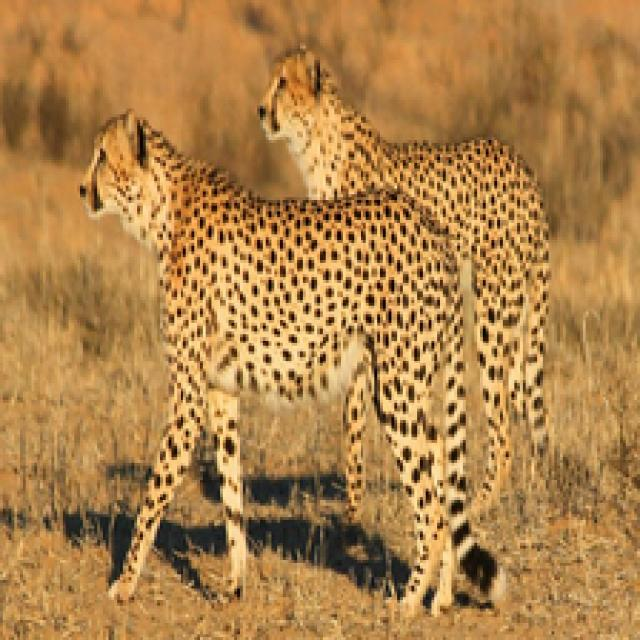cheetah: (70, 109, 502, 595), (266, 31, 561, 440)
